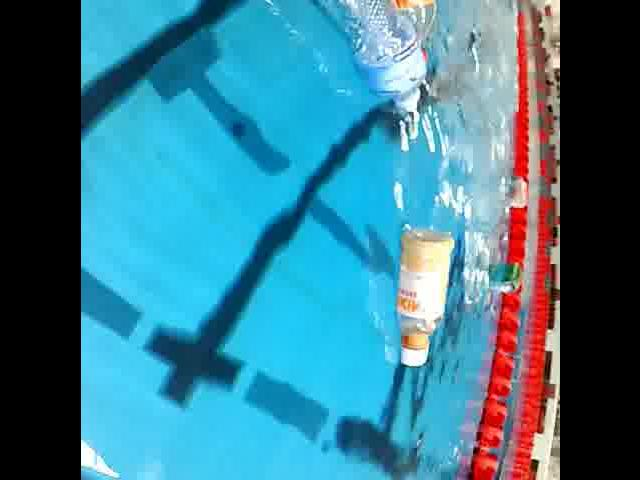Bottle: (289, 0, 427, 121), (384, 221, 456, 373), (365, 0, 441, 76), (506, 171, 530, 213)
Can: (495, 256, 521, 302)
